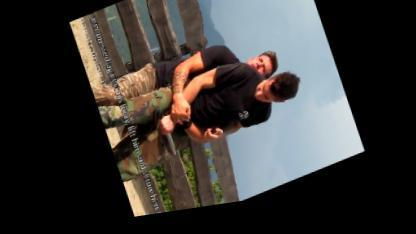knife: (152, 114, 179, 165)
